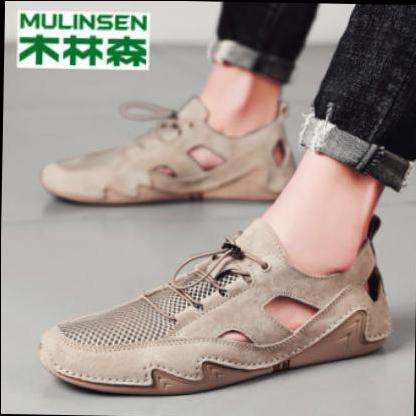no_safety-shoe: (29, 224, 405, 395), (32, 104, 300, 220)
